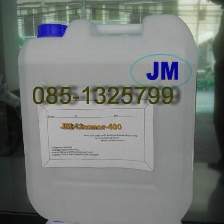cleaning_solution: (15, 11, 199, 223)
